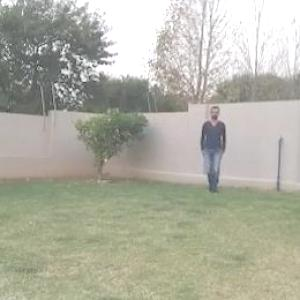follow: (200, 106, 222, 195)
